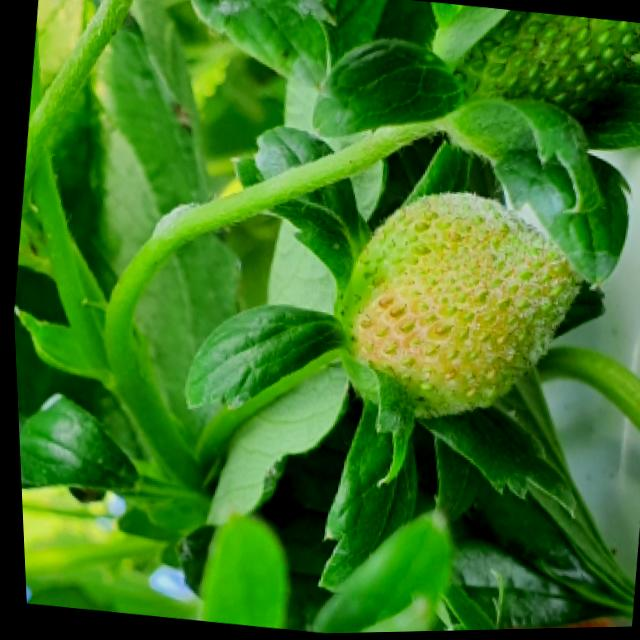Powdery Mildew Fruit: (336, 194, 581, 421)
